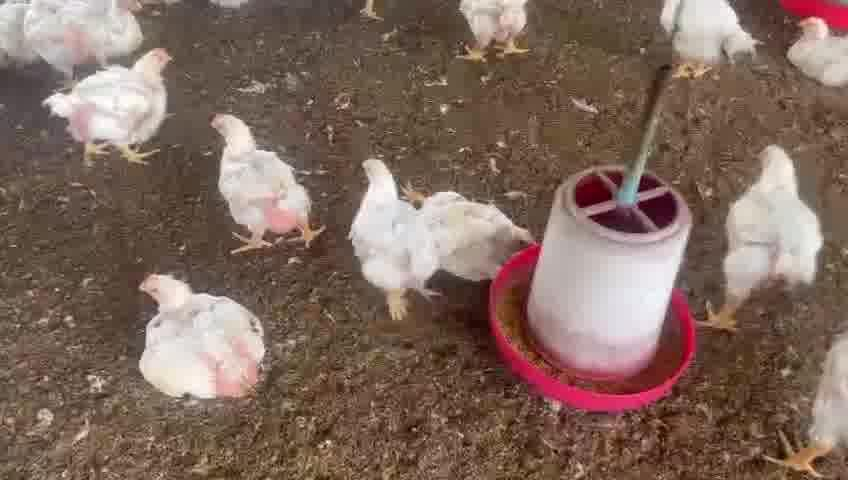AbNormal: (134, 272, 264, 402), (458, 0, 532, 62), (786, 18, 848, 85)
Normal: (707, 144, 819, 331), (210, 115, 324, 254), (759, 321, 848, 480), (57, 47, 171, 167), (353, 155, 436, 319), (404, 175, 537, 256), (24, 3, 149, 66), (662, 3, 756, 82)
